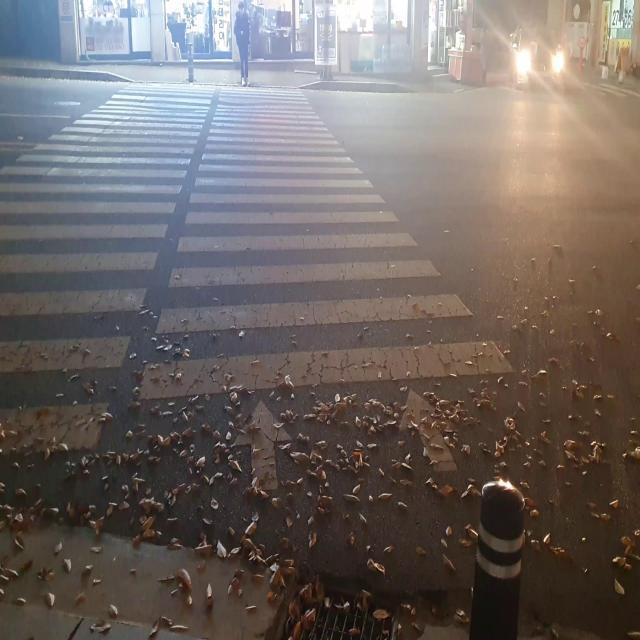crosswalk: (0, 82, 579, 518)
